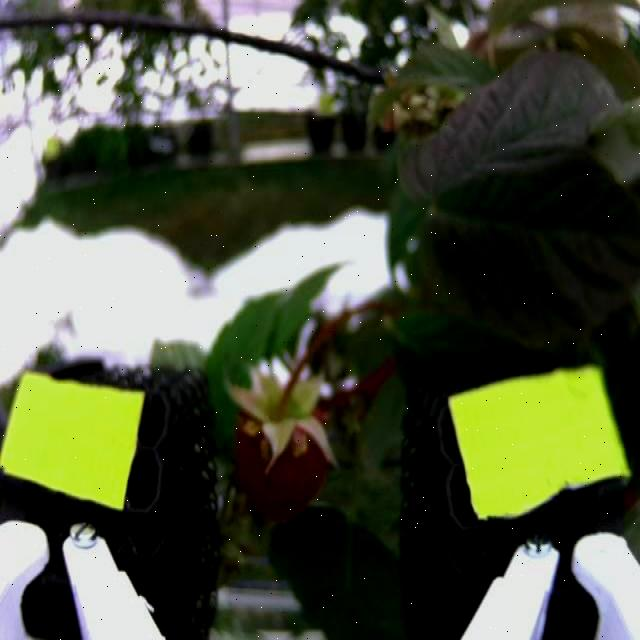Riped berries: (231, 378, 330, 521)
